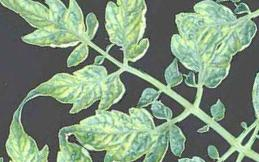Tomato leaf yellow virus: (57, 64, 195, 162), (19, 34, 135, 150), (127, 0, 245, 98), (6, 0, 112, 78), (70, 0, 177, 68), (147, 137, 228, 162), (229, 72, 259, 127)
